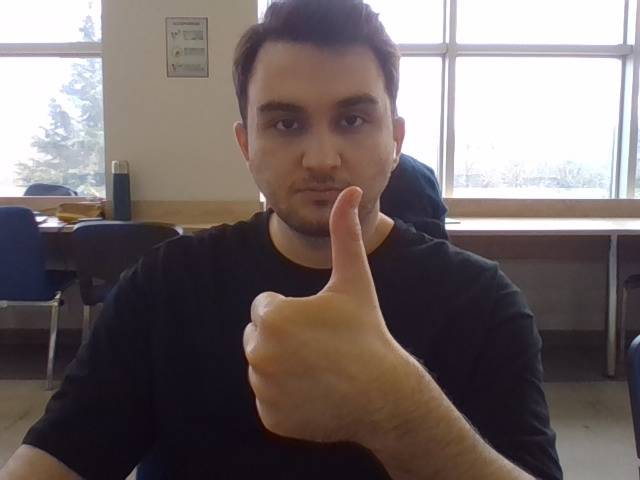thumbsup: (242, 185, 392, 440)
